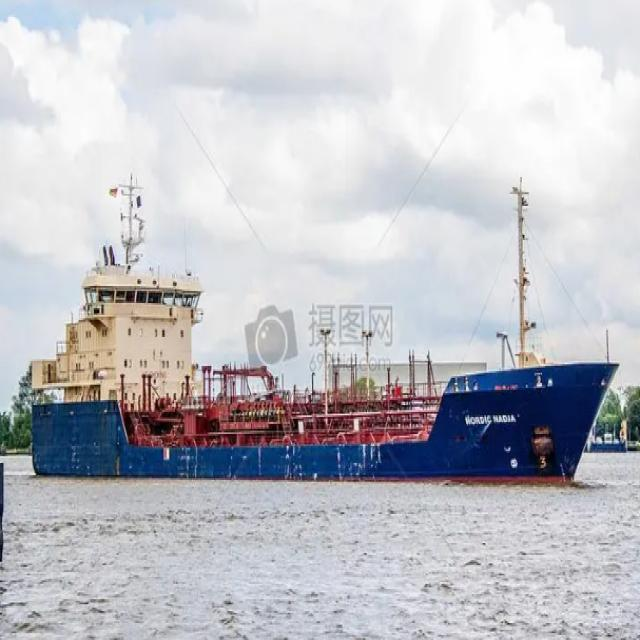cargoship: (29, 161, 618, 504)
